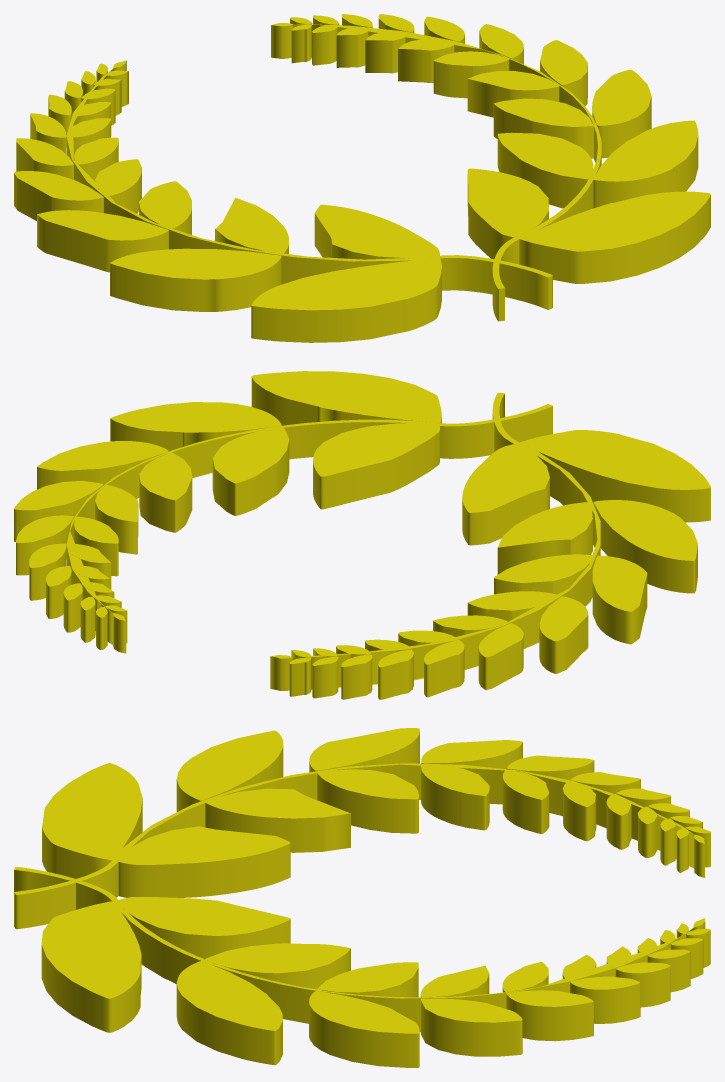
Rendered from laurel V1.2.fbx.
3 views of the same model, one above another, from view 1: azimuth 30°, elevation 25°; view 2: azimuth 150°, elevation 25°; view 3: azimuth 270°, elevation 25° (orthographic). The views are drawn at different scales.
Visible parts, largest first — view 1: Curve.018, Curve.041, Curve.016, Curve.021, Curve.039, Curve.014, Curve.040, Curve.038, Curve.019, Curve.043, Curve.037, Curve.036 (+22 smaller); view 2: Curve.018, Curve.043, Curve.041, Curve.040, Curve.016, Curve.019, Curve.021, Curve.039, Curve.038, Curve.017, Curve.014, Curve.037 (+23 smaller); view 3: Curve.041, Curve.019, Curve.021, Curve.018, Curve.043, Curve.039, Curve.040, Curve.017, Curve.037, Curve.016, Curve.035, Curve.015 (+22 smaller).
Boxes of the visible parts, left/top/right/bottom form: Curve.018: left=251, top=258, right=441, bottom=342; Curve.041: left=519, top=191, right=710, bottom=283; Curve.016: left=110, top=248, right=281, bottom=311; Curve.021: left=66, top=69, right=552, bottom=309; Curve.039: left=593, top=120, right=698, bottom=207; Curve.014: left=37, top=210, right=168, bottom=272; Curve.040: left=467, top=168, right=548, bottom=259; Curve.038: left=497, top=132, right=593, bottom=208; Curve.019: left=314, top=204, right=439, bottom=259; Curve.043: left=294, top=24, right=601, bottom=321; Curve.037: left=592, top=69, right=651, bottom=158; Curve.036: left=493, top=98, right=593, bottom=158; Curve.018: left=519, top=430, right=710, bottom=522; Curve.043: left=66, top=404, right=552, bottom=644; Curve.041: left=251, top=371, right=441, bottom=425; Curve.040: left=313, top=423, right=439, bottom=509; Curve.016: left=593, top=500, right=697, bottom=593; Curve.019: left=462, top=444, right=549, bottom=545; Curve.021: left=293, top=392, right=600, bottom=688; Curve.039: left=110, top=402, right=281, bottom=451; Curve.038: left=212, top=427, right=289, bottom=515; Curve.017: left=497, top=502, right=592, bottom=574; Curve.014: left=592, top=555, right=647, bottom=644; Curve.037: left=37, top=441, right=168, bottom=489; Curve.041: left=41, top=901, right=141, bottom=1032; Curve.019: left=118, top=826, right=290, bottom=897; Curve.021: left=14, top=763, right=694, bottom=929; Curve.018: left=42, top=763, right=142, bottom=878; Curve.043: left=14, top=867, right=694, bottom=1032; Curve.039: left=176, top=961, right=282, bottom=1065; Curve.040: left=118, top=897, right=290, bottom=959; Curve.017: left=205, top=788, right=350, bottom=852; Curve.037: left=309, top=991, right=419, bottom=1067; Curve.016: left=176, top=730, right=283, bottom=811; Curve.035: left=421, top=998, right=522, bottom=1056; Curve.015: left=317, top=769, right=418, bottom=833.
Bounding box in the file's own units: 45.9 × 2.4 × 44.25.
